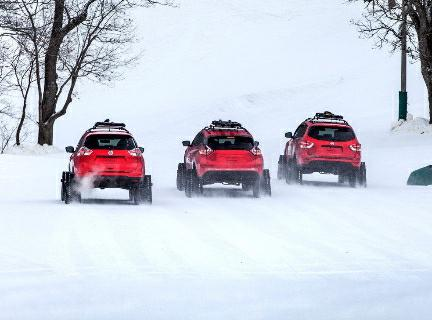日产-Rogue: (58, 117, 158, 208), (173, 119, 275, 202), (280, 113, 369, 193)
